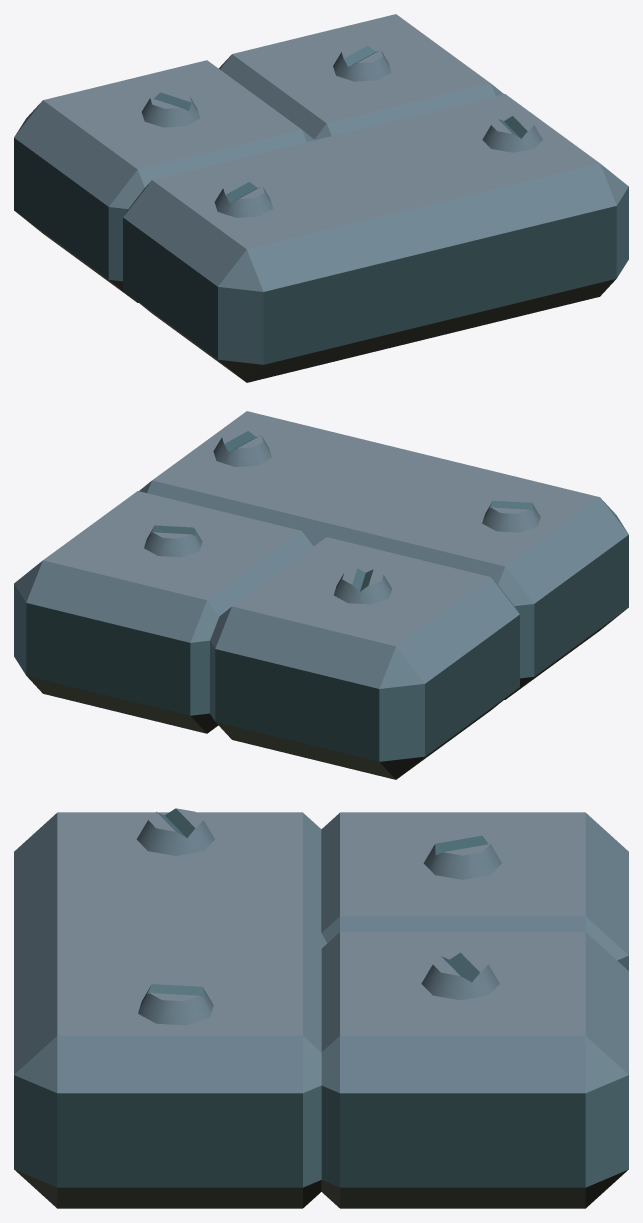
Rendered from m_kub_metal_floorMixed.FBX.
The picture shows the model from 3 angles, top to bottom: view 1: azimuth 30°, elevation 25°; view 2: azimuth 150°, elevation 25°; view 3: azimuth 270°, elevation 25°; orthographic projection. The views are drawn at different scales.
Parts seen in each view (by area): view 1: m_kub_metal_floorMixed; view 2: m_kub_metal_floorMixed; view 3: m_kub_metal_floorMixed.
Boxes of the visible parts, x1,y1,x2,y2 form: m_kub_metal_floorMixed: [14, 14, 628, 382]; m_kub_metal_floorMixed: [14, 411, 628, 779]; m_kub_metal_floorMixed: [14, 808, 628, 1208].
Bounding box in the file's own units: 2.18 × 0.7512 × 2.18.
